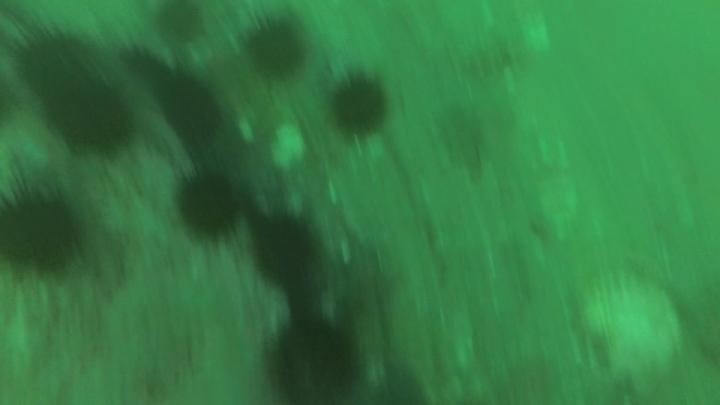echinus: (267, 318, 361, 404), (1, 181, 85, 275), (13, 28, 99, 106), (48, 81, 134, 153), (153, 71, 224, 146), (172, 167, 243, 240), (324, 69, 393, 141), (250, 211, 318, 284), (242, 16, 309, 80), (153, 2, 207, 45), (117, 42, 174, 81)
holothurian: (450, 24, 529, 79)
